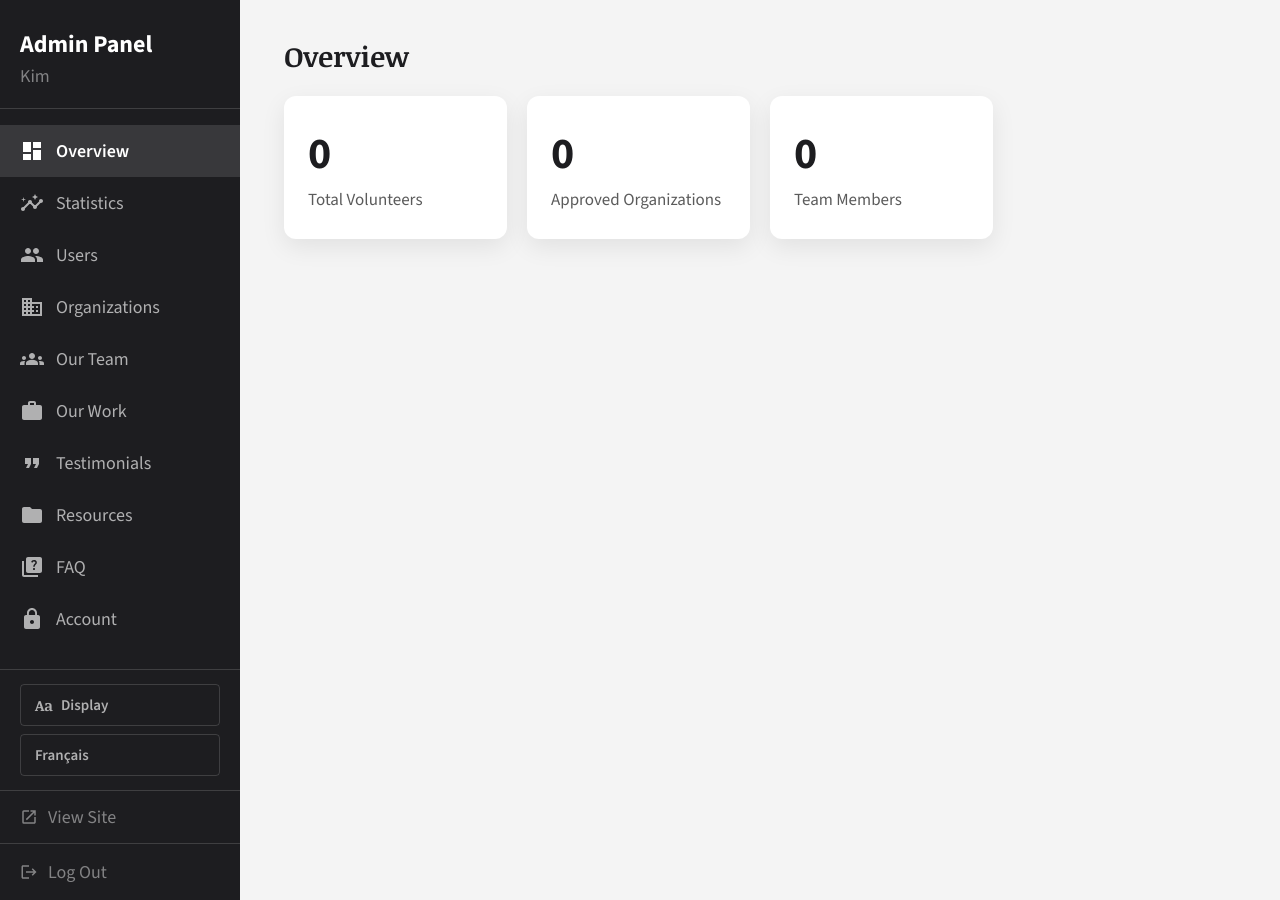
Test: shows the registration number with lookup links and rejects with a reason
Click the button "Organizations".
click(120, 307)  # box [0,281,240,333]
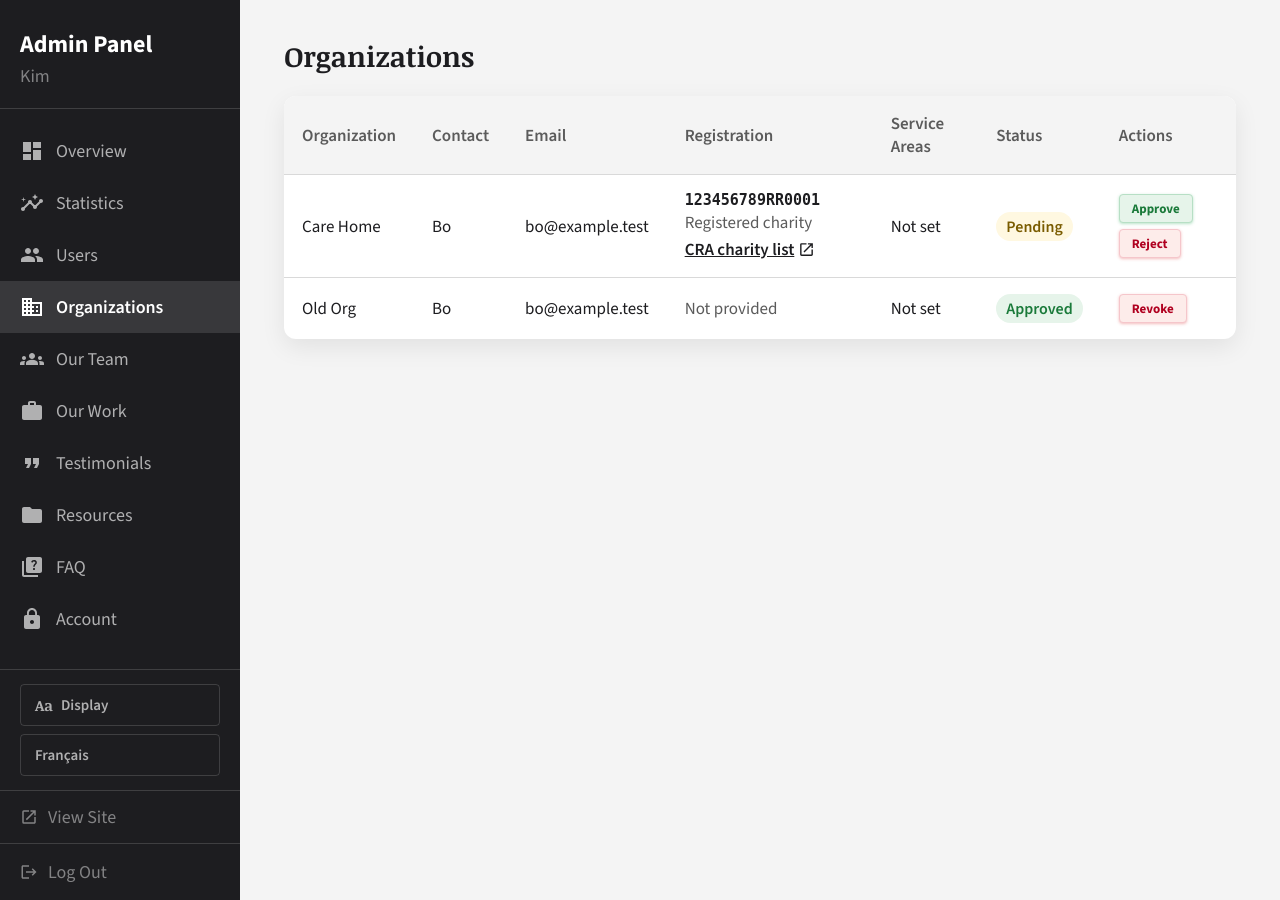
Check: the text "123456789RR0001" is shown, box [685,191,820,209]
Check: the text "Not provided" is shown, box [685,297,777,320]
Click the button "Reject".
click(1150, 244)  # box [1119,229,1181,258]
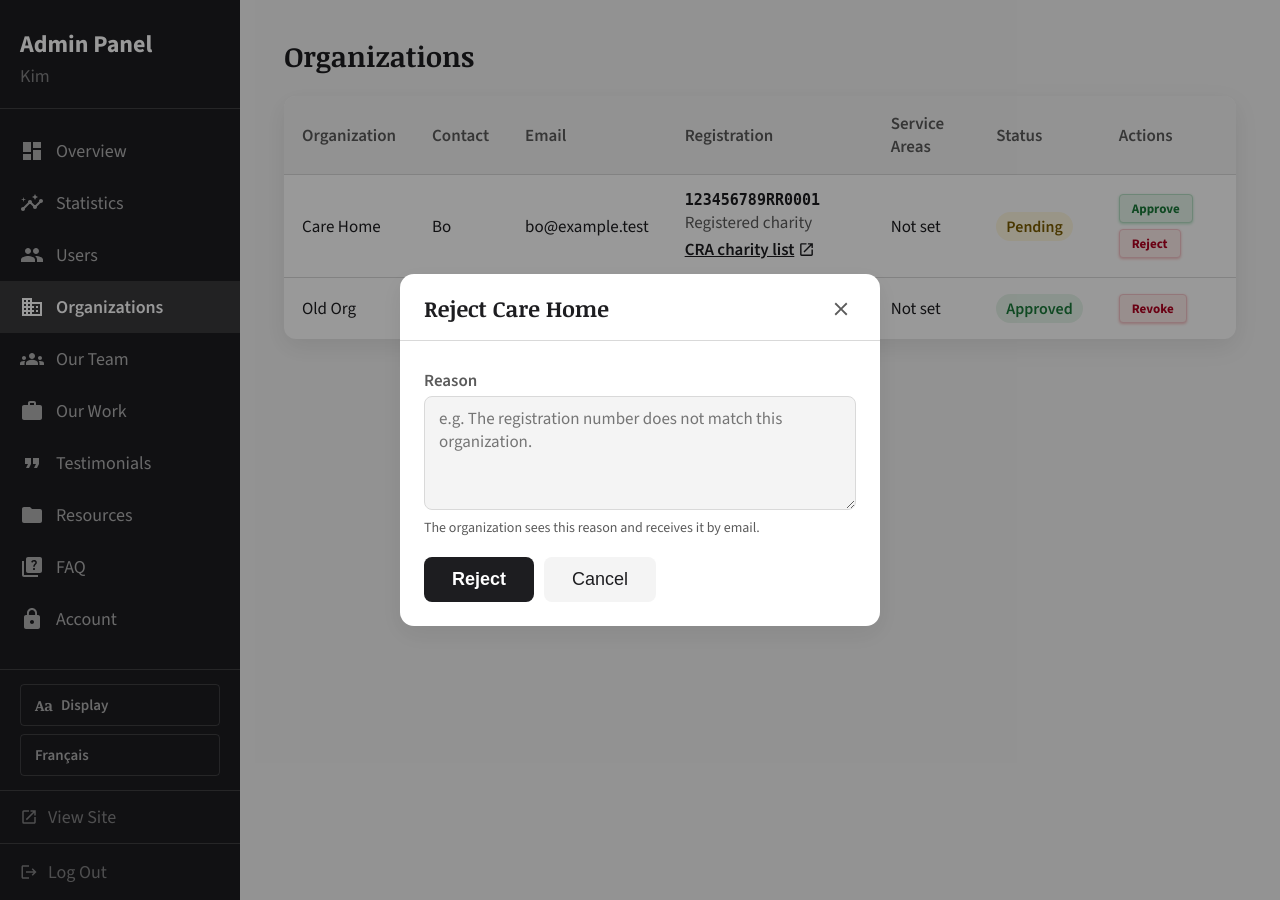
Click the button "Reject".
click(479, 580)  # box [424,557,534,602]
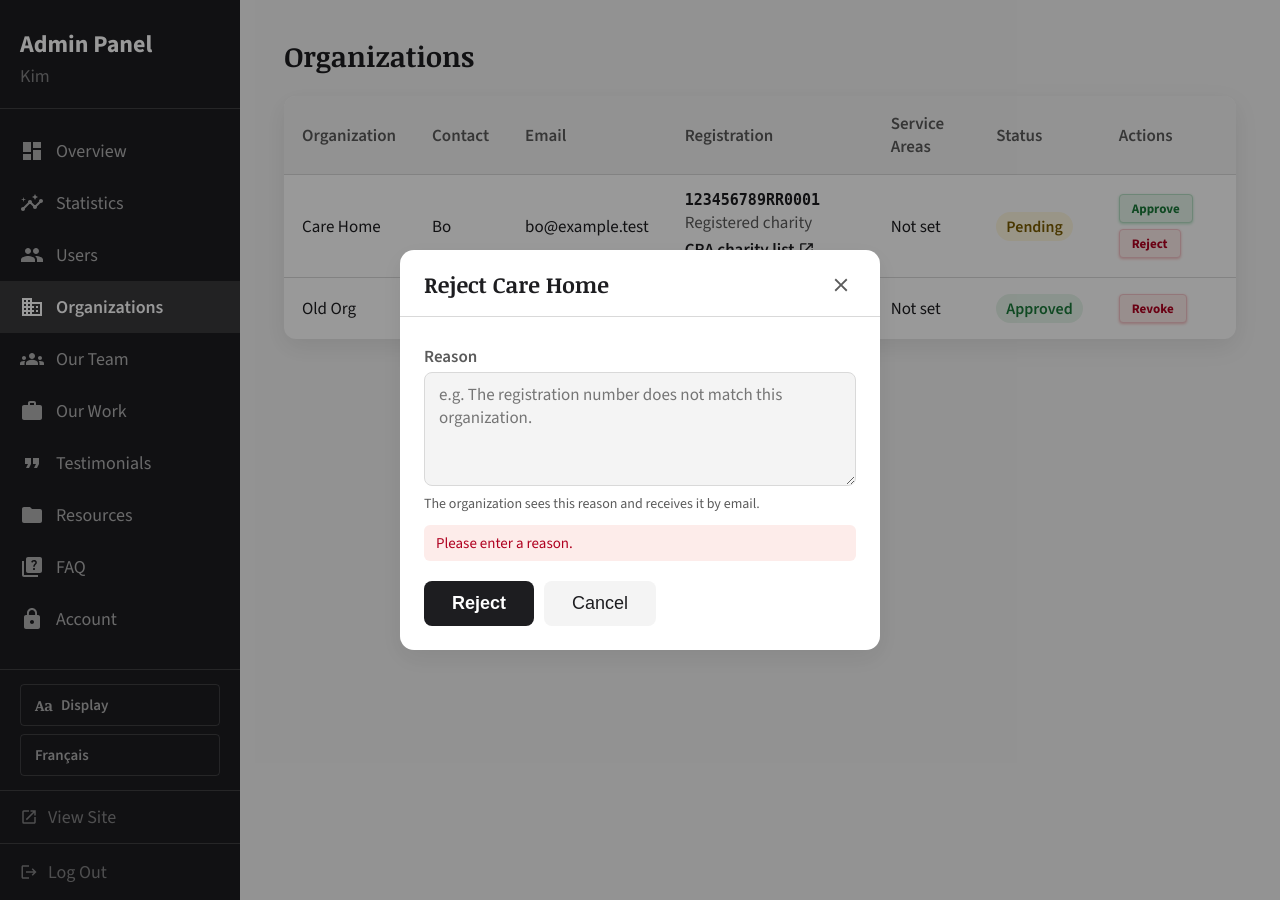
Check: the message reads "Please enter a reason.", box [436,533,573,553]
Replace the text in the text box labelled "Reason" with "The number belongs to another charity." at x=640, y=429, box [424,372,856,486]
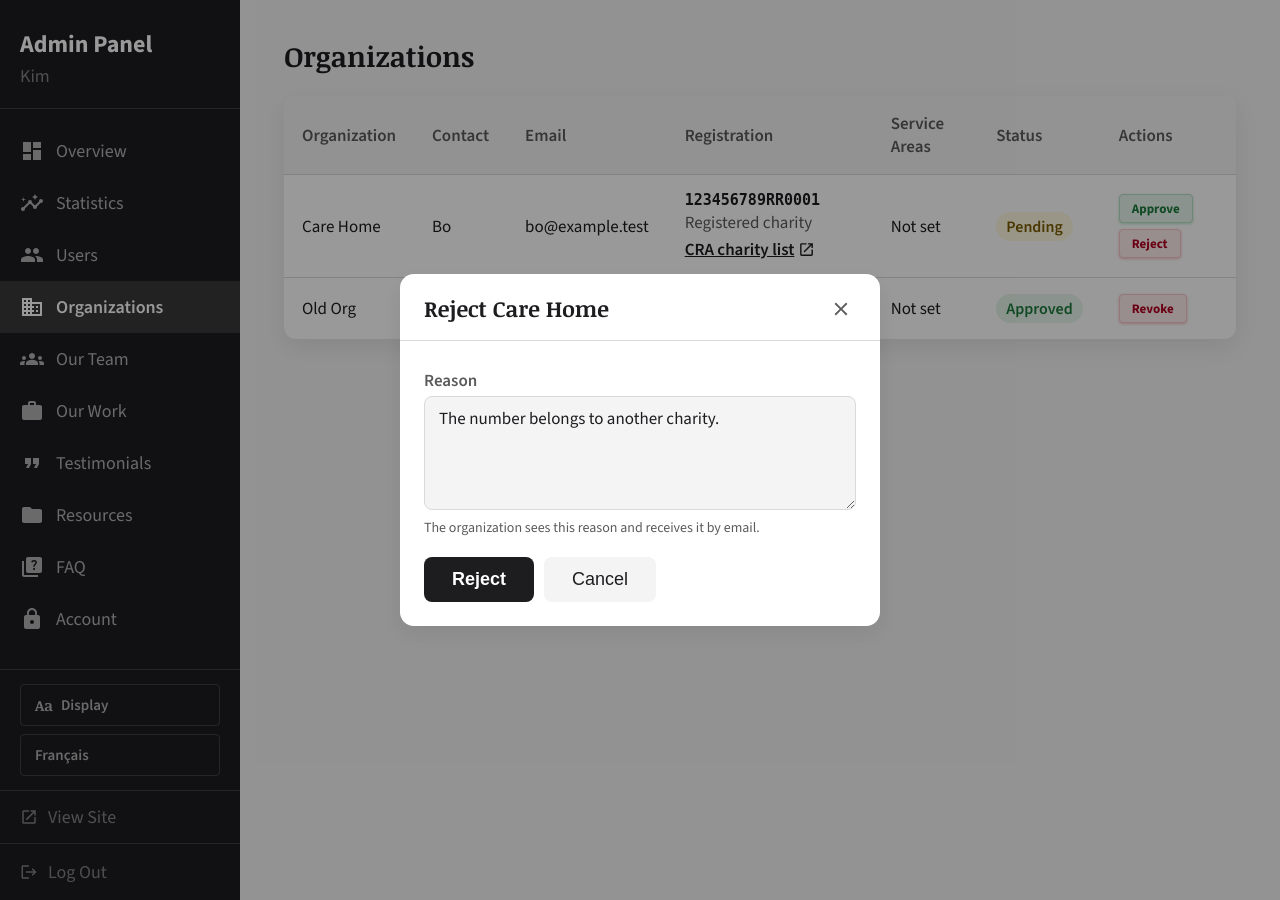
Click the button "Reject".
click(479, 580)  # box [424,557,534,602]
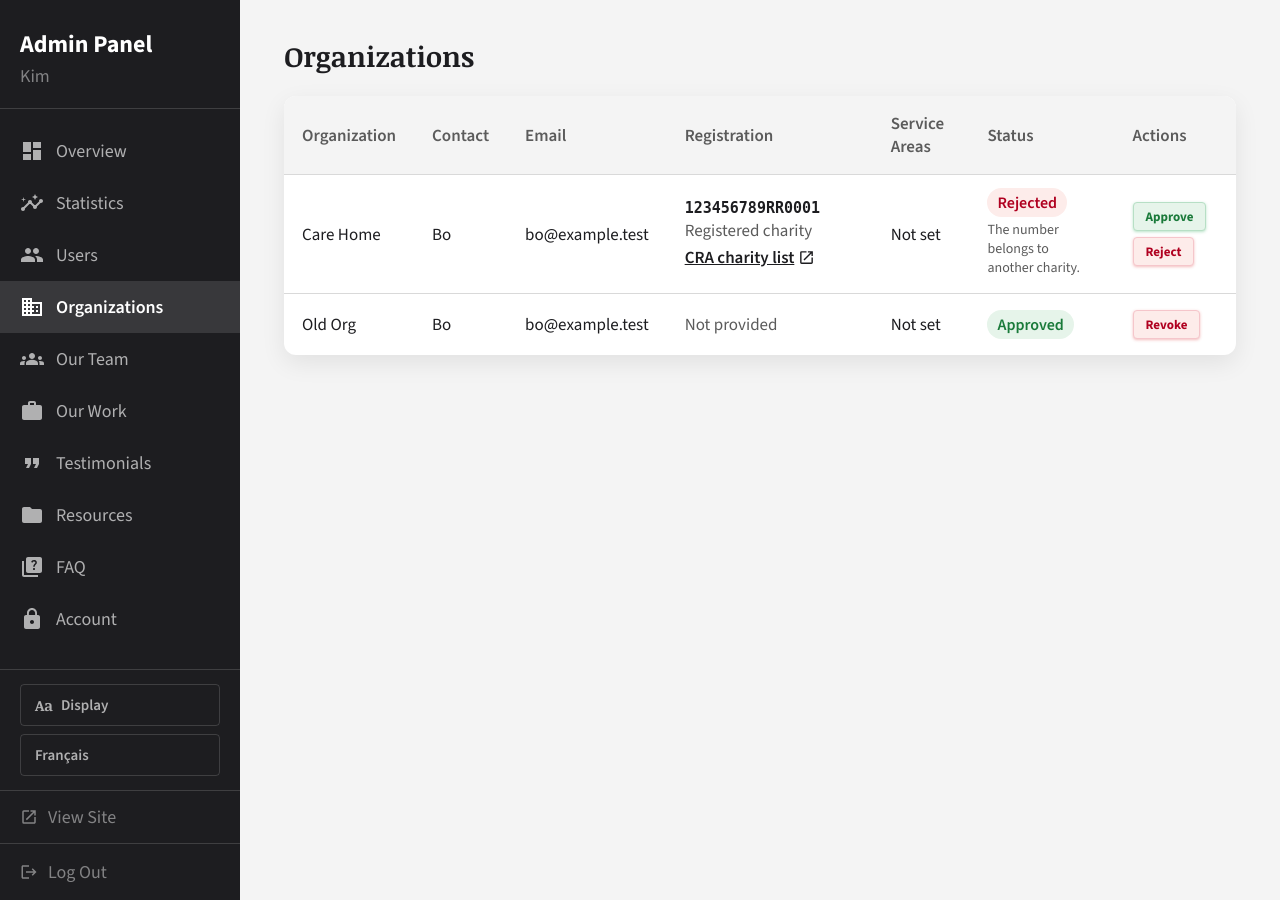
Check: the text "Rejected" is shown, box [988,188,1067,217]
Check: the text "The number belongs to another charity." is shown, box [988,220,1080,277]
